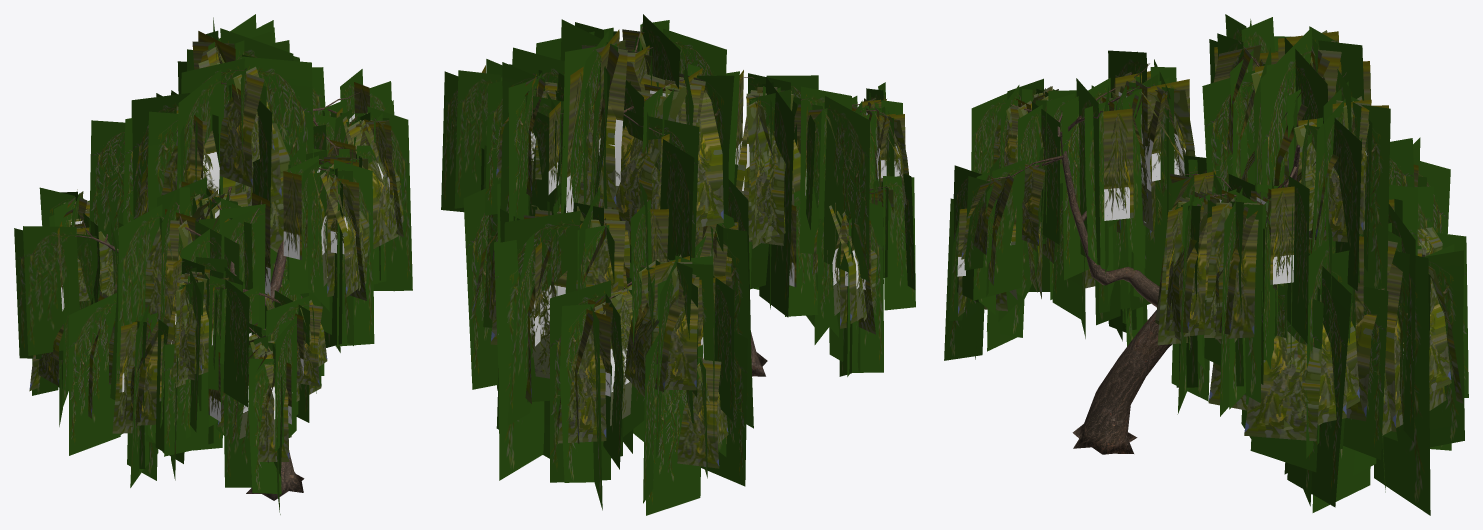
Rendered from willow.glb.
3 renders of one model, left to right at view 1: azimuth 30°, elevation 25°; view 2: azimuth 150°, elevation 25°; view 3: azimuth 270°, elevation 25°, orthographic. The views are drawn at different scales.
Visible parts, largest first — view 1: branch_leaves_3 (×8), branch_leaves_29 (×7), branch_leaves_41 (×6), branch_leaves_33 (×5), branch_leaves_43 (×4), branch_leaves_30 (×5), branch_leaves_1 (×6), branch_leaves_36 (×3), branch_leaves_25 (×4), branch_leaves_5 (×3), branch_leaves_42 (×4), branch_leaves_13 (×4) (+15 smaller); view 2: branch_leaves_29 (×4), branch_leaves_2 (×8), branch_leaves_3 (×5), branch_leaves_30 (×7), branch_leaves_41 (×6), branch_leaves_1 (×8), branch_leaves_43 (×6), branch_leaves_25 (×4), branch_leaves_15 (×4), branch_leaves_7 (×3), branch_leaves_5 (×4), branch_leaves_33 (×3) (+15 smaller); view 3: branch_leaves_2 (×7), branch_leaves_3 (×8), branch_leaves_33 (×5), branch_leaves_7 (×7), branch_leaves_30 (×6), Trunk, branch_leaves_1 (×4), branch_leaves_41 (×4), branch_leaves_25 (×2), branch_leaves_29 (×5), branch_leaves_42 (×3), branch_leaves_43 (×4) (+19 smaller).
Boxes of the visible parts, x1,y1,x2,y2 form: branch_leaves_3 (×8): [130, 28, 412, 487]; branch_leaves_29 (×7): [118, 56, 386, 414]; branch_leaves_41 (×6): [14, 81, 391, 456]; branch_leaves_33 (×5): [68, 100, 309, 455]; branch_leaves_43 (×4): [23, 69, 362, 355]; branch_leaves_30 (×5): [155, 69, 296, 463]; branch_leaves_1 (×6): [39, 111, 352, 494]; branch_leaves_36 (×3): [145, 73, 322, 386]; branch_leaves_25 (×4): [164, 60, 399, 380]; branch_leaves_5 (×3): [161, 120, 345, 461]; branch_leaves_42 (×4): [208, 82, 369, 421]; branch_leaves_13 (×4): [119, 31, 392, 392]; branch_leaves_29 (×4): [642, 14, 915, 515]; branch_leaves_2 (×8): [498, 43, 853, 510]; branch_leaves_3 (×5): [463, 77, 883, 482]; branch_leaves_30 (×7): [485, 27, 851, 503]; branch_leaves_41 (×6): [441, 71, 915, 371]; branch_leaves_1 (×8): [496, 19, 858, 482]; branch_leaves_43 (×6): [454, 47, 818, 421]; branch_leaves_25 (×4): [611, 73, 877, 397]; branch_leaves_15 (×4): [507, 31, 623, 469]; branch_leaves_7 (×3): [652, 85, 800, 390]; branch_leaves_5 (×4): [525, 73, 851, 443]; branch_leaves_33 (×3): [578, 83, 747, 486]; branch_leaves_2 (×7): [944, 40, 1430, 515]; branch_leaves_3 (×8): [987, 27, 1450, 512]; branch_leaves_33 (×5): [973, 70, 1417, 300]; branch_leaves_7 (×7): [1169, 50, 1451, 425]; branch_leaves_30 (×6): [953, 37, 1468, 441]; Trunk: [1060, 131, 1300, 454]; branch_leaves_1 (×4): [1176, 201, 1464, 449]; branch_leaves_41 (×4): [1306, 81, 1414, 459]; branch_leaves_25 (×2): [1155, 193, 1323, 441]; branch_leaves_29 (×5): [971, 17, 1433, 472]; branch_leaves_42 (×3): [1103, 108, 1363, 325]; branch_leaves_43 (×4): [1076, 78, 1372, 343].
Size of the model in its own units: 3.95 by 4.42 by 4.52.
3 materials, 3 textured.
